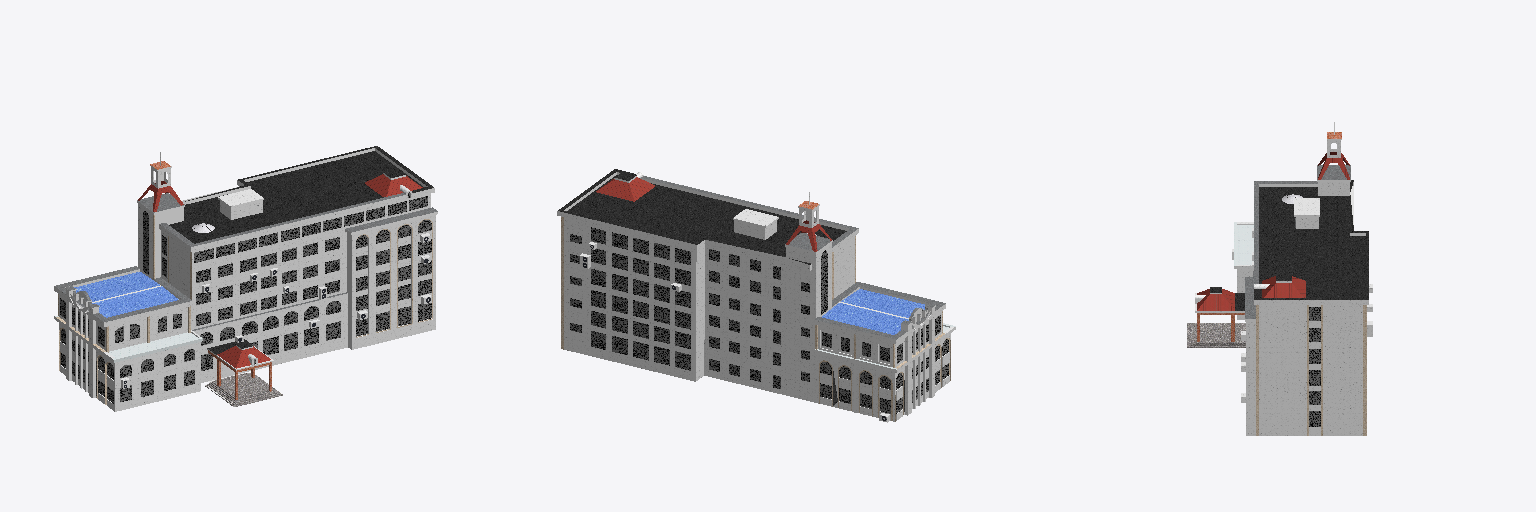
The picture shows the model from 3 angles: view 1: azimuth 30°, elevation 25°; view 2: azimuth 150°, elevation 25°; view 3: azimuth 270°, elevation 25°; orthographic projection.
Parts seen in each view (by area): view 1: Mesh1 Model; view 2: Mesh1 Model; view 3: Mesh1 Model.
Boxes of the visible parts, <box> form: Mesh1 Model: <box>54,146,437,411</box>; Mesh1 Model: <box>557,169,955,422</box>; Mesh1 Model: <box>1187,122,1372,435</box>.
Size of the model in its own units: 62.46 by 36.29 by 30.26.
Materials: 17 (16 with a texture image).